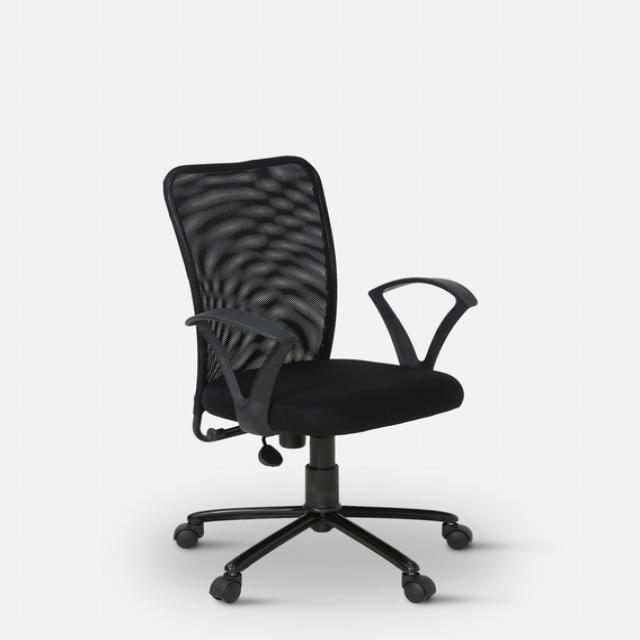chair: (116, 152, 549, 619)
